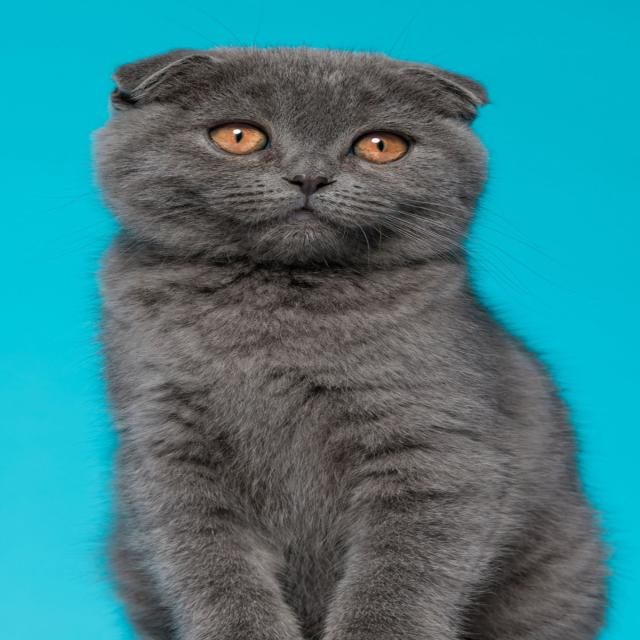british shorthair: (95, 48, 607, 640)
